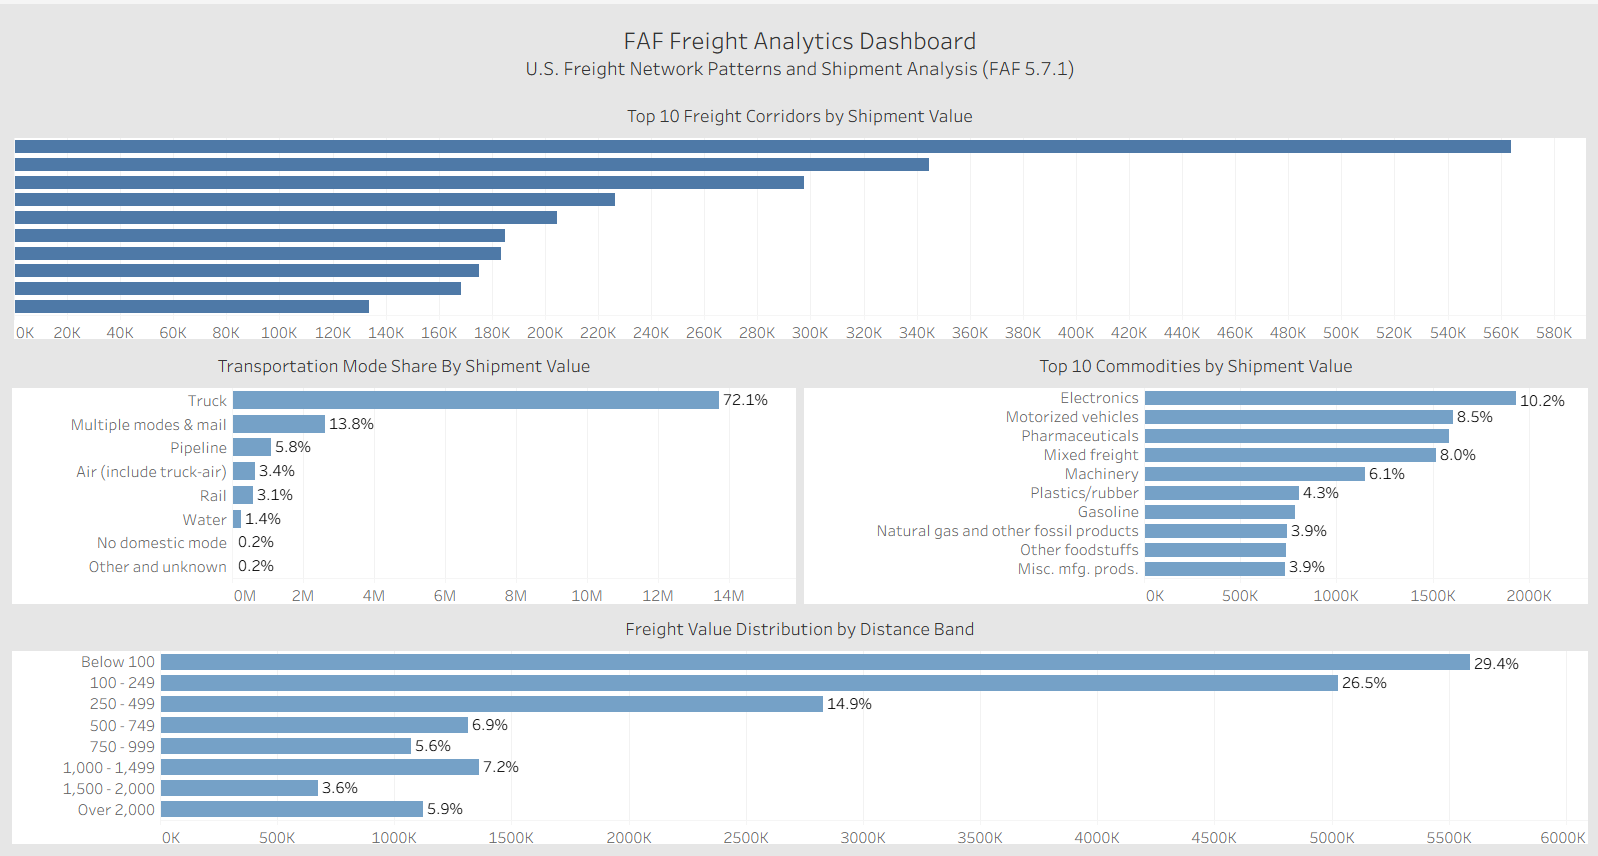

Layout of this report page (visuals, bound fields, positions):
{"tool":"tableau","page":{"name":"FAF Freight Analytics Dashboard","canvas":[1000,1000],"units":"permille","ordinal":0},"visuals":[{"type":"title","box":[5,9.4,990,95.1]},{"type":"worksheet","title":"Top Corridors","mark":"Automatic","rows":["freight_corridor"],"cols":["total_value"],"box":[5,104.5,990,295.9]},{"type":"worksheet","title":"Mode Mix","mark":"Automatic","rows":["mode_name"],"cols":["total_value"],"box":[5,400.3,495,308.6]},{"type":"worksheet","title":"Top Commodities","mark":"Automatic","rows":["commodity_name"],"cols":["total_value"],"box":[500,400.3,495,308.6]},{"type":"worksheet","title":"Distance Bands","mark":"Automatic","rows":["dist_band_name"],"cols":["total_value"],"box":[5,708.9,990,281.7]}]}

Visuals, with their boxes on the dashboard's canvas, which has no fixed pixel size, in thousandths of its width and height (x1, y1, x2, y2). These are canvas units, not pixel positions in the 1598x856 screenshot, which may show the page scaled, cropped or inside an application window:
title: bbox=(5, 9, 995, 104)
"Top Corridors" worksheet: bbox=(5, 104, 995, 400)
"Mode Mix" worksheet: bbox=(5, 400, 500, 709)
"Top Commodities" worksheet: bbox=(500, 400, 995, 709)
"Distance Bands" worksheet: bbox=(5, 709, 995, 991)
